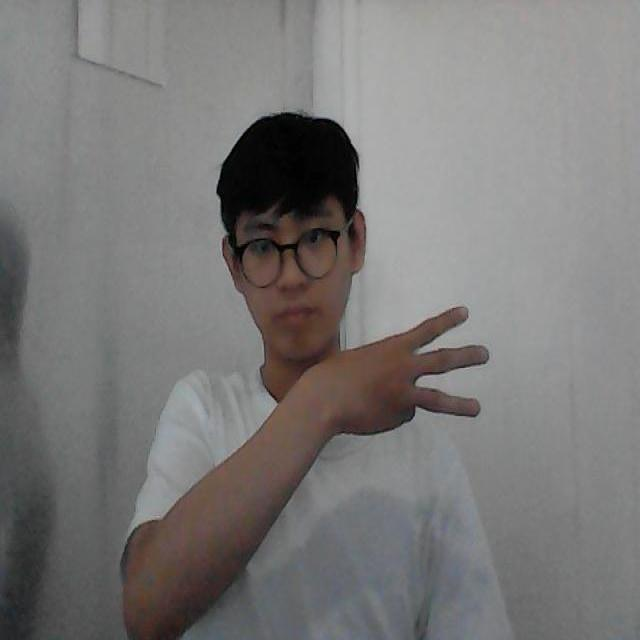E: (289, 295, 513, 450)
